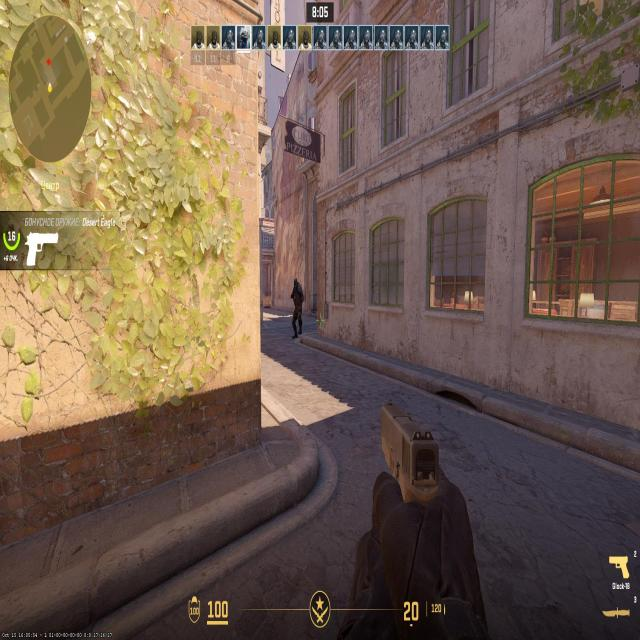CT: (294, 280, 300, 334)
CT_heat: (296, 282, 301, 292)
